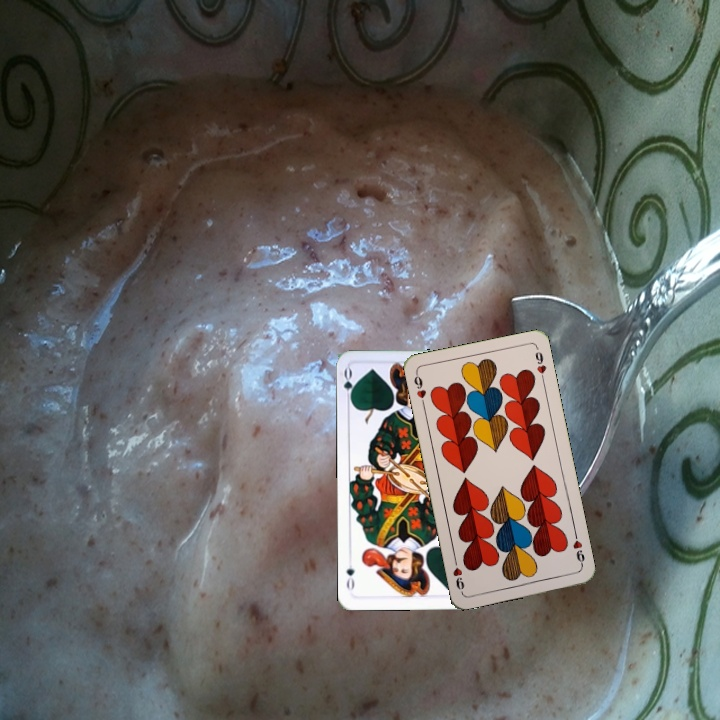GO: (340, 365, 359, 405)
H9: (410, 369, 429, 409), (569, 529, 587, 569)
